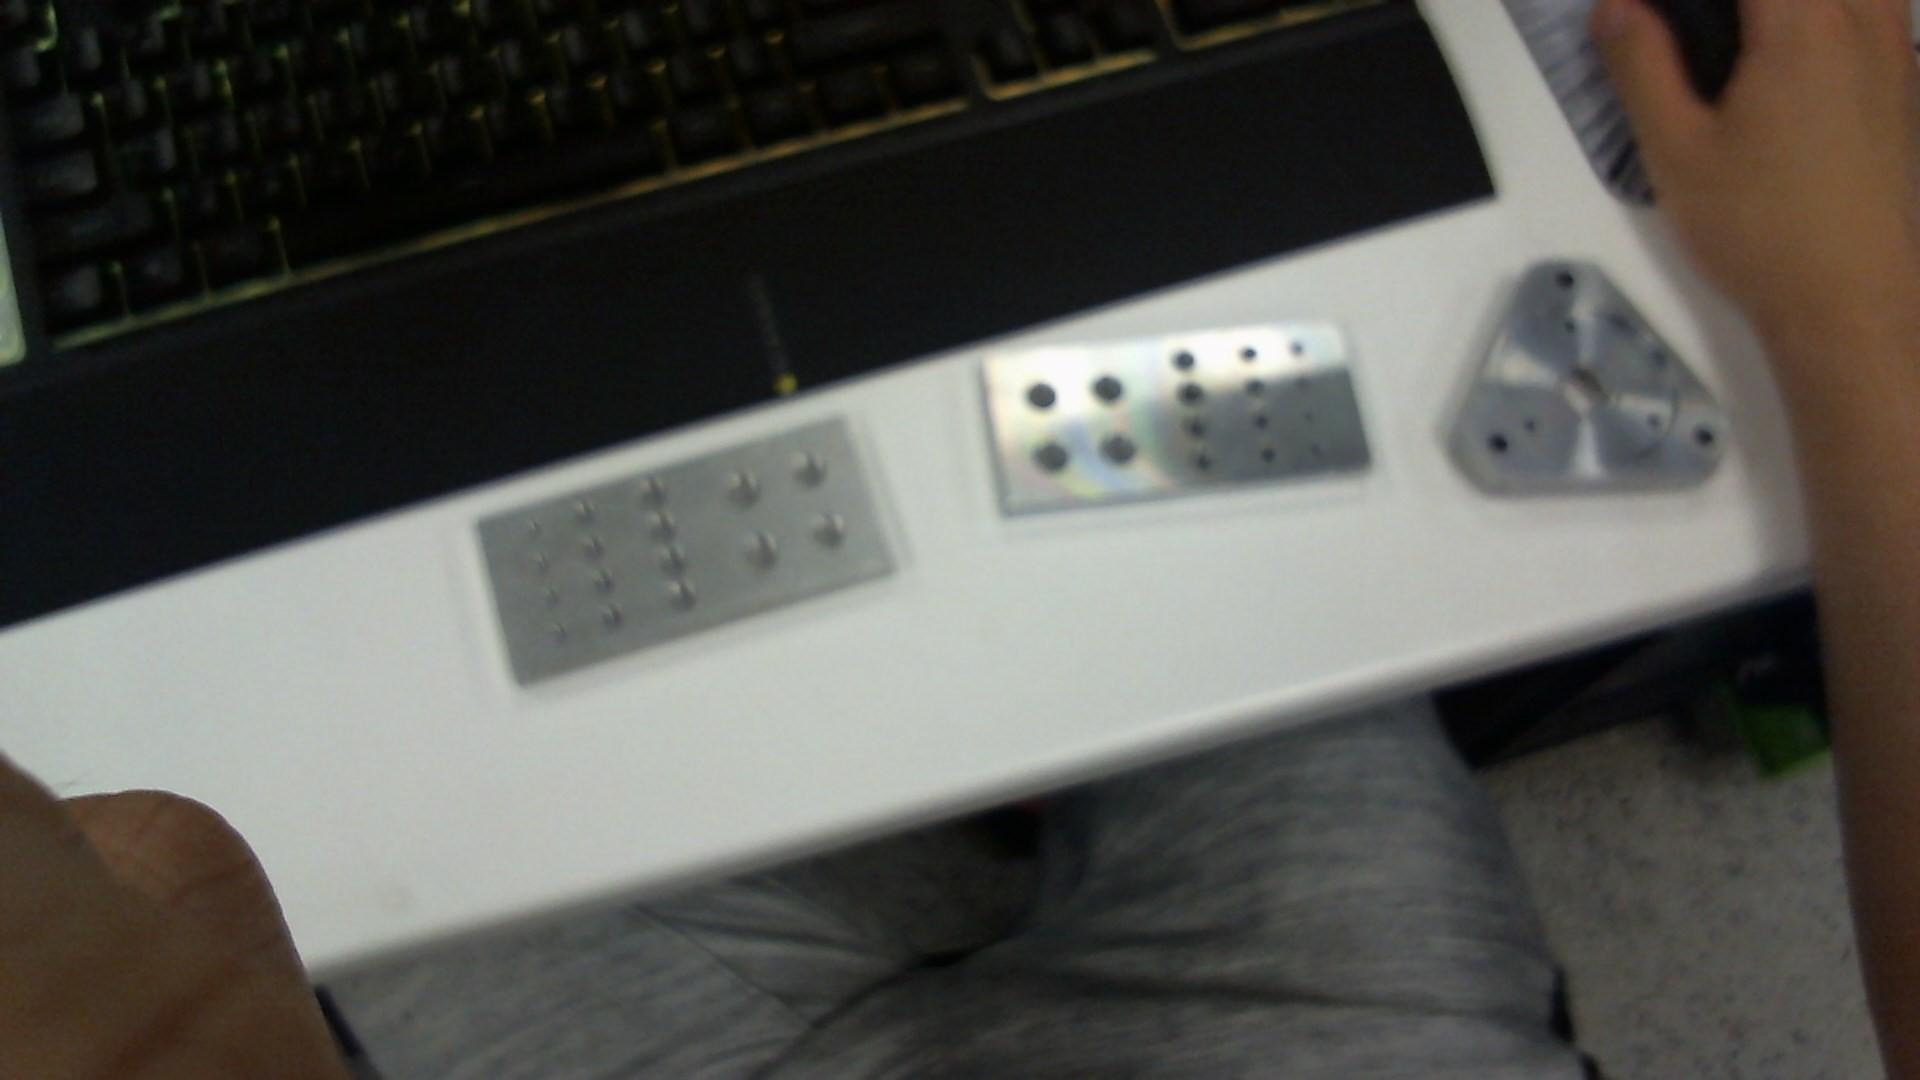hole: (1025, 439, 1079, 481), (1097, 426, 1143, 472), (1015, 372, 1063, 414), (1089, 372, 1130, 410), (1480, 422, 1514, 459), (1547, 261, 1585, 294), (1685, 419, 1721, 454), (1168, 347, 1204, 378), (1189, 448, 1222, 481), (1184, 414, 1218, 446), (1254, 439, 1287, 471), (1175, 380, 1207, 409), (1299, 434, 1331, 462), (1247, 406, 1278, 434), (1236, 336, 1263, 364), (1246, 373, 1270, 401), (1294, 409, 1323, 427), (1287, 339, 1309, 359), (1294, 376, 1315, 396)
